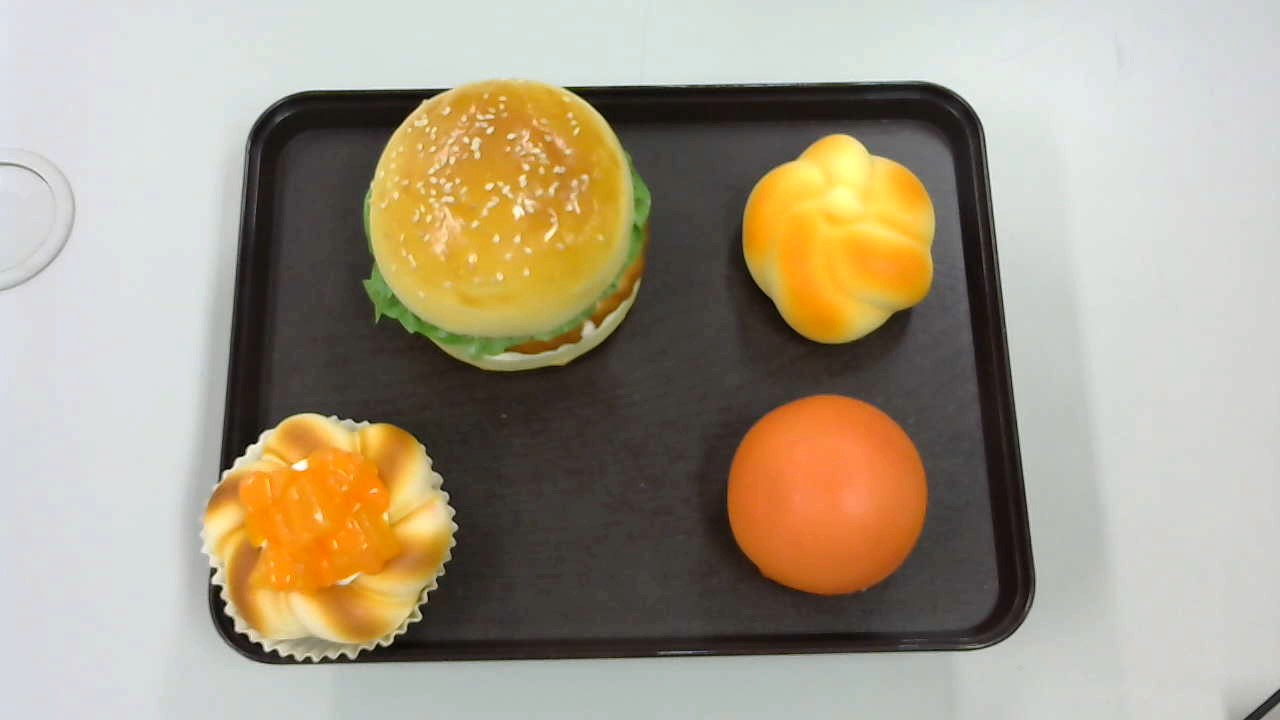bun: (725, 393, 929, 596)
hamburger: (361, 81, 651, 372)
mango tart: (199, 410, 456, 663)
twist bread: (742, 131, 938, 344)
